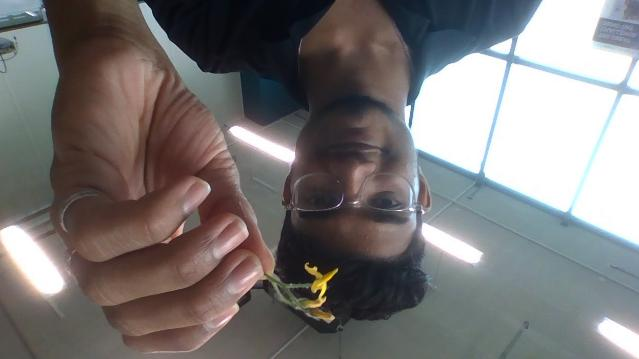Anthesis: (266, 274, 333, 322), (304, 262, 341, 304), (298, 305, 334, 322), (301, 306, 335, 323), (300, 293, 328, 308)
